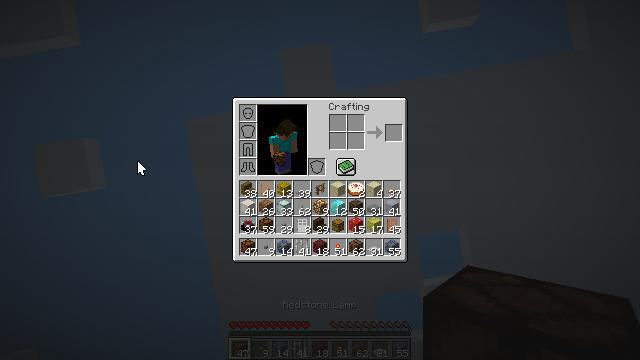cursor: (160, 137, 176, 147)
